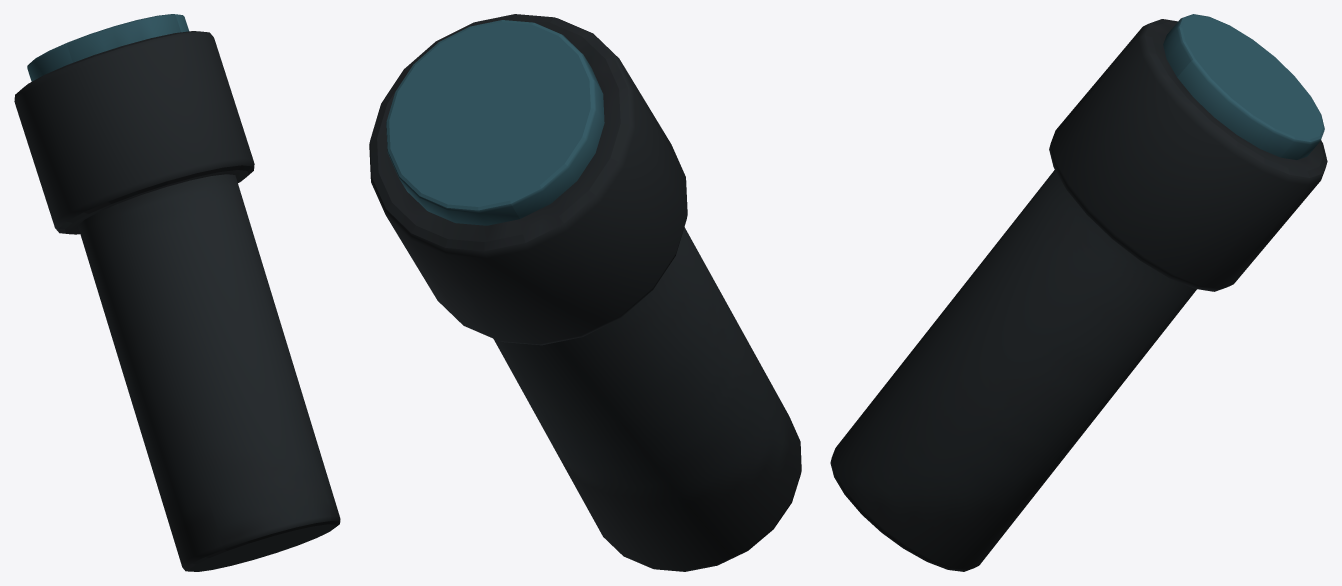
Rendered from 4_eyepiece.obj.
3 views of the same model, side by side, from view 1: azimuth 30°, elevation 25°; view 2: azimuth 150°, elevation 25°; view 3: azimuth 270°, elevation 25° (orthographic). The views are drawn at different scales.
Size of the model in its own units: 0.19 by 0.4727 by 0.4008.
1 material, 1 textured.
